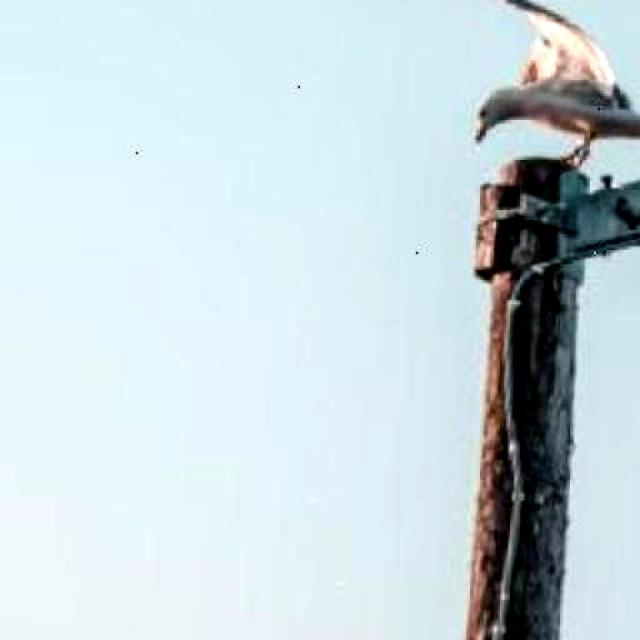airplane: (370, 0, 640, 175)
